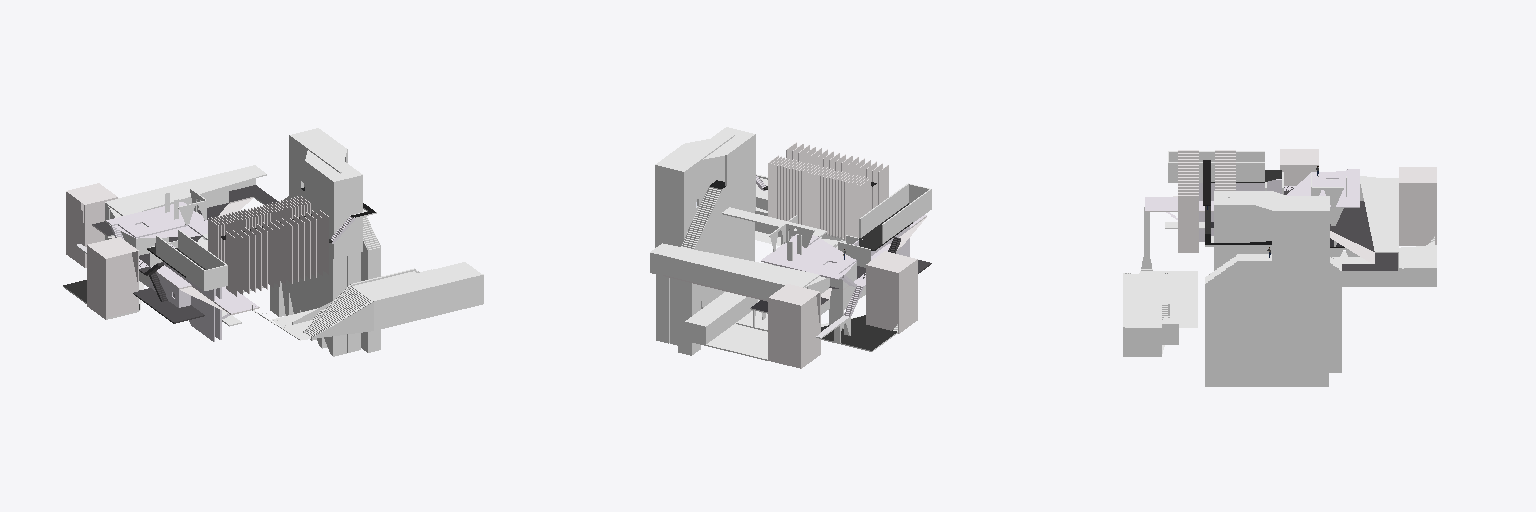
File: Undetailed.obj
3 views of the same model, side by side, from view 1: azimuth 30°, elevation 25°; view 2: azimuth 150°, elevation 25°; view 3: azimuth 270°, elevation 25° (orthographic).
Visible parts, largest first — view 1: Mesh161 Group135 Group128 Group127 Model, Mesh154 Group125 Group120 Model, Mesh197 Group175 Group173 Model, Mesh150 Group121 Group120 Model, Mesh69 Group31 Group29 Model, Mesh120 Group88 Group62 Model, Mesh87 Group51 Model, Mesh152 Group123 Group120 Model, Mesh153 Group124 Group120 Model, Mesh109 Group78 Group75 Group63 Group62 Model, Mesh111 Group80 Group75 Group63 Group62 Model, Mesh102 Group71 Group64 Group63 Group62 Model (+5 smaller); view 2: Mesh150 Group121 Group120 Model, Mesh152 Group123 Group120 Model, Mesh69 Group31 Group29 Model, Mesh197 Group175 Group173 Model, Mesh120 Group88 Group62 Model, Mesh106 Group73 Group64 Group63 Group62 Model, Mesh154 Group125 Group120 Model, Mesh87 Group51 Model, Mesh155 Group126 Model, Mesh187 Group163 Model, Mesh195 Group172 Model, Mesh95 Group57 Group55 Model (+6 smaller); view 3: Mesh153 Group124 Group120 Model, Mesh152 Group123 Group120 Model, Mesh161 Group135 Group128 Group127 Model, Mesh154 Group125 Group120 Model, Mesh69 Group31 Group29 Model, Mesh120 Group88 Group62 Model, Mesh102 Group71 Group64 Group63 Group62 Model, Mesh170 Group143 Group142 Model, Mesh87 Group51 Model, Mesh150 Group121 Group120 Model, Mesh28 columns_1_14 Group13 Model, Mesh166 Group141 Group138 Group127 Model (+7 smaller).
Part boxes in pixels (bbox=[...]): Mesh161 Group135 Group128 Group127 Model: bbox=[286, 262, 483, 340]; Mesh154 Group125 Group120 Model: bbox=[305, 150, 362, 258]; Mesh197 Group175 Group173 Model: bbox=[87, 237, 138, 319]; Mesh150 Group121 Group120 Model: bbox=[270, 187, 346, 356]; Mesh69 Group31 Group29 Model: bbox=[66, 183, 117, 267]; Mesh120 Group88 Group62 Model: bbox=[105, 165, 266, 215]; Mesh87 Group51 Model: bbox=[106, 202, 207, 238]; Mesh152 Group123 Group120 Model: bbox=[289, 128, 347, 195]; Mesh153 Group124 Group120 Model: bbox=[361, 216, 380, 352]; Mesh109 Group78 Group75 Group63 Group62 Model: bbox=[151, 265, 259, 314]; Mesh111 Group80 Group75 Group63 Group62 Model: bbox=[164, 262, 214, 341]; Mesh102 Group71 Group64 Group63 Group62 Model: bbox=[92, 188, 253, 265]; Mesh150 Group121 Group120 Model: bbox=[678, 180, 754, 355]; Mesh152 Group123 Group120 Model: bbox=[655, 134, 734, 247]; Mesh69 Group31 Group29 Model: bbox=[768, 284, 820, 368]; Mesh197 Group175 Group173 Model: bbox=[866, 251, 917, 333]; Mesh120 Group88 Group62 Model: bbox=[650, 243, 819, 287]; Mesh106 Group73 Group64 Group63 Group62 Model: bbox=[650, 254, 783, 299]; Mesh154 Group125 Group120 Model: bbox=[696, 127, 755, 210]; Mesh87 Group51 Model: bbox=[761, 234, 856, 279]; Mesh155 Group126 Model: bbox=[686, 300, 767, 360]; Mesh187 Group163 Model: bbox=[821, 315, 897, 351]; Mesh195 Group172 Model: bbox=[882, 189, 931, 243]; Mesh95 Group57 Group55 Model: bbox=[859, 184, 908, 237]; Mesh153 Group124 Group120 Model: bbox=[1205, 254, 1328, 386]; Mesh152 Group123 Group120 Model: bbox=[1228, 196, 1329, 309]; Mesh161 Group135 Group128 Group127 Model: bbox=[1123, 257, 1169, 356]; Mesh154 Group125 Group120 Model: bbox=[1214, 191, 1286, 270]; Mesh69 Group31 Group29 Model: bbox=[1399, 167, 1436, 245]; Mesh120 Group88 Group62 Model: bbox=[1360, 178, 1398, 252]; Mesh102 Group71 Group64 Group63 Group62 Model: bbox=[1284, 191, 1397, 263]; Mesh170 Group143 Group142 Model: bbox=[1342, 269, 1436, 286]; Mesh87 Group51 Model: bbox=[1287, 169, 1359, 207]; Mesh150 Group121 Group120 Model: bbox=[1329, 256, 1341, 372]; Mesh28 columns_1_14 Group13 Model: bbox=[1178, 195, 1198, 252]; Mesh166 Group141 Group138 Group127 Model: bbox=[1153, 271, 1197, 327].
Bounding box in the file's own units: 160 × 90.15 × 145.